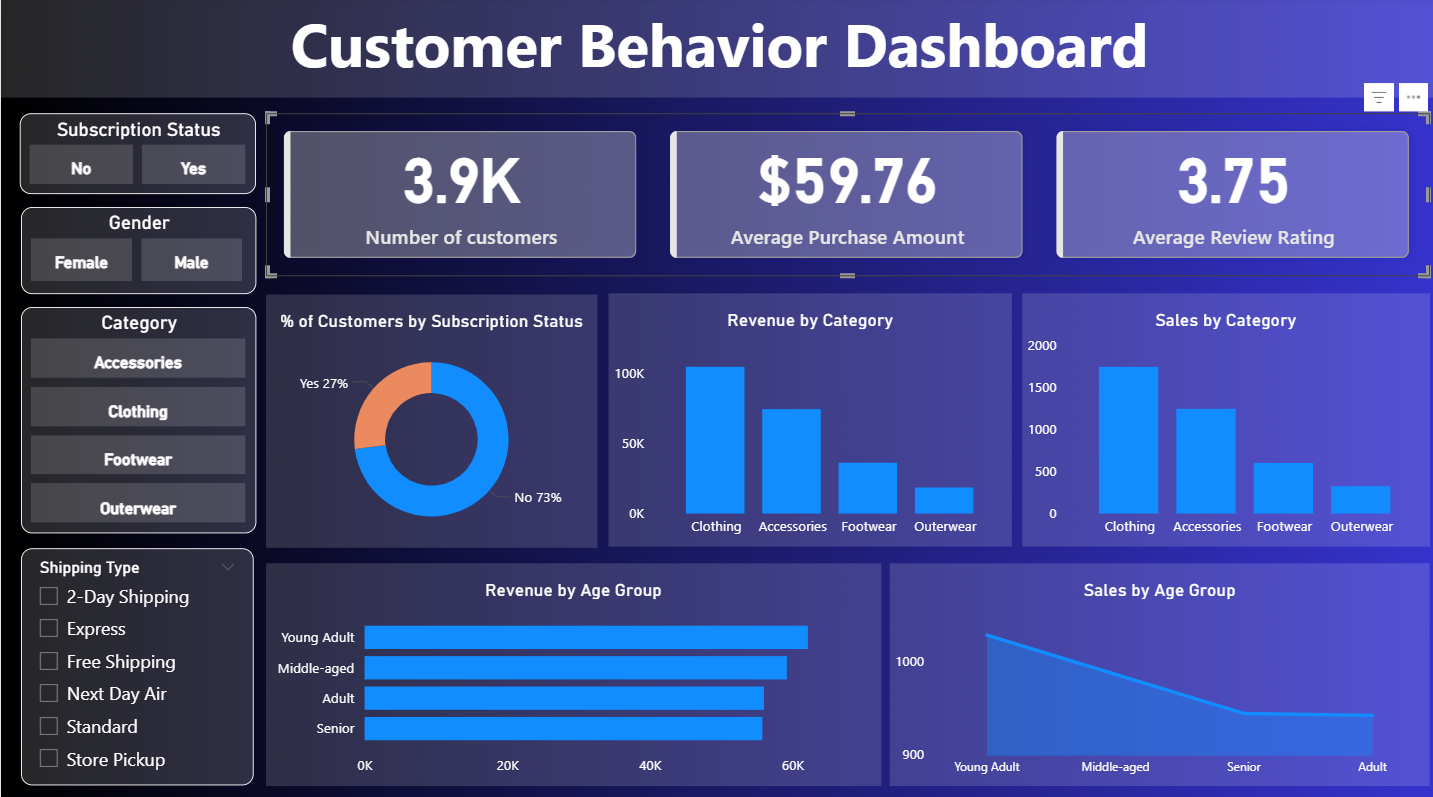

The dashboard page shown, as its layout file describes it:
{"tool":"powerbi","page":{"name":"Page 1","canvas":[1280,720],"ordinal":0},"visuals":[{"type":"cardVisual","fields":{"Data":["public customer.Number of customers","public customer.Average Purchase Amount","public customer.Average Review Rating"]},"box":[236,103.5,1036.4,145.8],"z":0},{"type":"textbox","box":[0,0,1279.8,89.6],"z":1000},{"type":"donutChart","title":"% of Customers by Subscription Status","fields":{"Category":["public customer.subscription_status"],"Y":["public customer.Count of customer id"]},"box":[236,264.9,295,226],"z":2000},{"type":"clusteredColumnChart","title":"Revenue by Category","fields":{"Category":["public customer.category"],"Y":["Sum(public customer.purchase_amount)"]},"box":[541,263.8,359.6,226],"z":3000},{"type":"clusteredColumnChart","title":"Sales by Category","fields":{"Category":["public customer.category"],"Y":["public customer.Count of customer id"]},"box":[909.5,263.8,362.9,226],"z":4000},{"type":"advancedSlicerVisual","fields":{"Values":["public customer.subscription_status"]},"box":[16.7,103.5,210.4,72.4],"z":6000},{"type":"advancedSlicerVisual","fields":{"Values":["public customer.gender"]},"box":[17.8,187,209.3,77.9],"z":7000},{"type":"slicer","fields":{"Values":["public customer.shipping_type"]},"box":[17.8,490.9,207.1,211.5],"z":8000},{"type":"advancedSlicerVisual","fields":{"Values":["public customer.category"]},"box":[17.8,276.1,209.3,201.5],"z":9000},{"type":"clusteredBarChart","title":"Revenue by Age Group","fields":{"Y":["Sum(public customer.purchase_amount)"],"Category":["public customer.age_group"]},"box":[236,504.3,547.7,198.1],"z":9002},{"type":"areaChart","title":"Sales by Age Group","fields":{"Category":["public customer.age_group"],"Y":["public customer.Count of customer id"]},"box":[791.5,504.3,480.9,198.1],"z":9003}]}

Visuals, with their boxes in screenshot pixels (x1, y1, x2, y2), scaled from the page's 1280x720 canvas onto the 1433x797 screenshot:
cardVisual - public customer.Number of customers x public customer.Average Purchase Amount: [x1=264, y1=115, x2=1424, y2=276]
textbox: [x1=0, y1=0, x2=1432, y2=99]
"% of Customers by Subscription Status" donutChart: [x1=264, y1=293, x2=594, y2=543]
"Revenue by Category" clusteredColumnChart: [x1=606, y1=292, x2=1008, y2=542]
"Sales by Category" clusteredColumnChart: [x1=1018, y1=292, x2=1424, y2=542]
advancedSlicerVisual - public customer.subscription_status: [x1=19, y1=115, x2=254, y2=195]
advancedSlicerVisual - public customer.gender: [x1=20, y1=207, x2=254, y2=293]
slicer - public customer.shipping_type: [x1=20, y1=543, x2=252, y2=778]
advancedSlicerVisual - public customer.category: [x1=20, y1=306, x2=254, y2=529]
"Revenue by Age Group" clusteredBarChart: [x1=264, y1=558, x2=877, y2=778]
"Sales by Age Group" areaChart: [x1=886, y1=558, x2=1424, y2=778]
